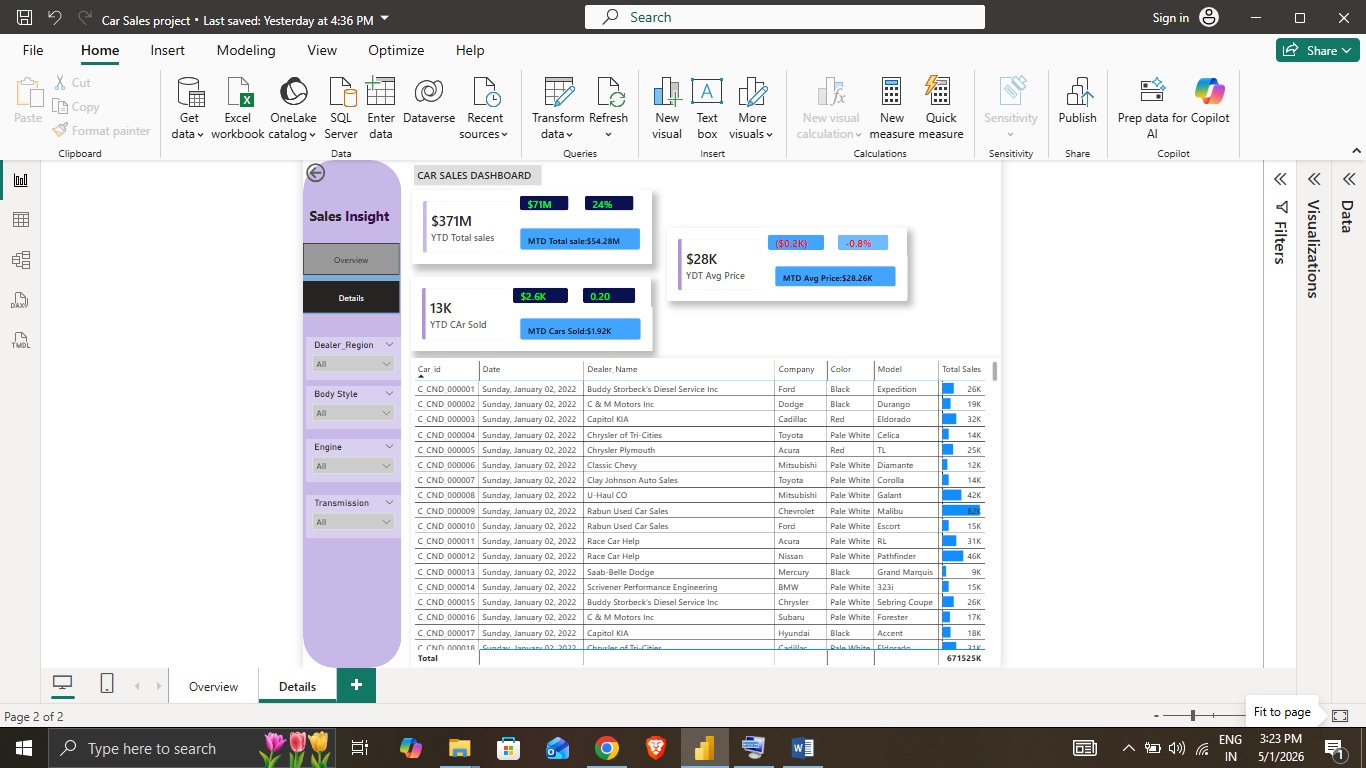

What the dashboard file says about the page in this screenshot:
{"tool":"powerbi","page":{"name":"Details","canvas":[1100,800],"ordinal":1},"visuals":[{"type":"shape","box":[0,0,155.1,800],"z":0},{"type":"cardVisual","fields":{"Data":["car_data.YTD Total sales"]},"box":[171.8,47.4,378.2,116.7],"z":1000},{"type":"cardVisual","fields":{"Data":["car_data.Sales Difference"]},"box":[324.4,39.7,111.5,57.7],"z":2000},{"type":"cardVisual","fields":{"Data":["car_data.YOY Sales Growth"]},"box":[426.9,39.7,111.5,57.7],"z":3000},{"type":"cardVisual","fields":{"Data":["car_data.MTD KPI"]},"box":[324.4,89.7,224.4,69.2],"z":4000},{"type":"cardVisual","fields":{"Data":["car_data.YDT Avg Price"]},"box":[573.1,106.4,378.2,115.4],"z":5000},{"type":"cardVisual","fields":{"Data":["car_data.MTD Avg Price KPI"]},"box":[725.6,150,225.6,67.9],"z":6000},{"type":"cardVisual","fields":{"Data":["car_data.Avg Price Diff"]},"box":[715.4,100,123.1,59],"z":7000},{"type":"cardVisual","fields":{"Data":["car_data.YoY Avg Price Growth"]},"box":[825.6,100,114.1,59],"z":8000},{"type":"cardVisual","fields":{"Data":["car_data.YTD CAr Sold"]},"box":[170.5,184.6,378.2,116.7],"z":9000},{"type":"cardVisual","fields":{"Data":["car_data.Cars Sold Diff"]},"box":[314.1,184.6,121.8,59],"z":10000},{"type":"cardVisual","fields":{"Data":["car_data.YoY Car Sold Growth"]},"box":[424.4,184.6,117.9,59],"z":11000},{"type":"cardVisual","fields":{"Data":["car_data.MTD Cars Sold KPI"]},"box":[324.4,232.1,225.6,69.2],"z":12000},{"type":"textbox","box":[174.4,7.7,201.3,32.1],"z":18000},{"type":"slicer","fields":{"Values":["car_data.Dealer_Region"]},"box":[5.1,278.2,150,67.9],"z":19000},{"type":"slicer","fields":{"Values":["car_data.Body Style"]},"box":[5.1,356.4,150,67.9],"z":20000},{"type":"slicer","fields":{"Values":["car_data.Transmission"]},"box":[5.1,526.9,150,67.9],"z":21000},{"type":"slicer","fields":{"Values":["car_data.Engine"]},"box":[5.1,439.7,150,67.9],"z":22000},{"type":"tableEx","fields":{"Values":["car_data.Car_id","car_data.Date","car_data.Dealer_Name","car_data.Company","car_data.Color","car_data.Model","car_data.Total Sales"]},"box":[170.5,311.5,929.5,488.5],"z":22001},{"type":"actionButton","box":[0,0,100,40],"z":22002},{"type":"textbox","box":[5.1,67.9,156.4,38.5],"z":22003},{"type":"pageNavigator","box":[0,130.8,152.6,111.5],"z":22004}]}

Visuals, with their boxes on the page's 1100x800 design canvas (x1, y1, x2, y2). These are canvas units, not pixel positions in the 1366x768 screenshot, which may show the page scaled, cropped or inside an application window:
shape: x1=0 y1=0 x2=155 y2=800
cardVisual - car_data.YTD Total sales: x1=172 y1=47 x2=550 y2=164
cardVisual - car_data.Sales Difference: x1=324 y1=40 x2=436 y2=97
cardVisual - car_data.YOY Sales Growth: x1=427 y1=40 x2=538 y2=97
cardVisual - car_data.MTD KPI: x1=324 y1=90 x2=549 y2=159
cardVisual - car_data.YDT Avg Price: x1=573 y1=106 x2=951 y2=222
cardVisual - car_data.MTD Avg Price KPI: x1=726 y1=150 x2=951 y2=218
cardVisual - car_data.Avg Price Diff: x1=715 y1=100 x2=838 y2=159
cardVisual - car_data.YoY Avg Price Growth: x1=826 y1=100 x2=940 y2=159
cardVisual - car_data.YTD CAr Sold: x1=170 y1=185 x2=549 y2=301
cardVisual - car_data.Cars Sold Diff: x1=314 y1=185 x2=436 y2=244
cardVisual - car_data.YoY Car Sold Growth: x1=424 y1=185 x2=542 y2=244
cardVisual - car_data.MTD Cars Sold KPI: x1=324 y1=232 x2=550 y2=301
textbox: x1=174 y1=8 x2=376 y2=40
slicer - car_data.Dealer_Region: x1=5 y1=278 x2=155 y2=346
slicer - car_data.Body Style: x1=5 y1=356 x2=155 y2=424
slicer - car_data.Transmission: x1=5 y1=527 x2=155 y2=595
slicer - car_data.Engine: x1=5 y1=440 x2=155 y2=508
tableEx - car_data.Car_id x car_data.Date: x1=170 y1=312 x2=1100 y2=800
actionButton: x1=0 y1=0 x2=100 y2=40
textbox: x1=5 y1=68 x2=162 y2=106
pageNavigator: x1=0 y1=131 x2=153 y2=242
